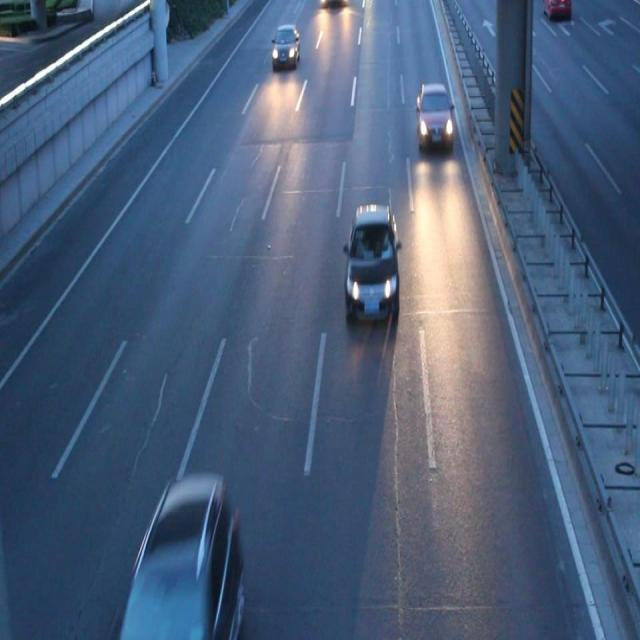car: (120, 481, 241, 640), (344, 204, 399, 322), (414, 83, 452, 152), (270, 24, 298, 70)
